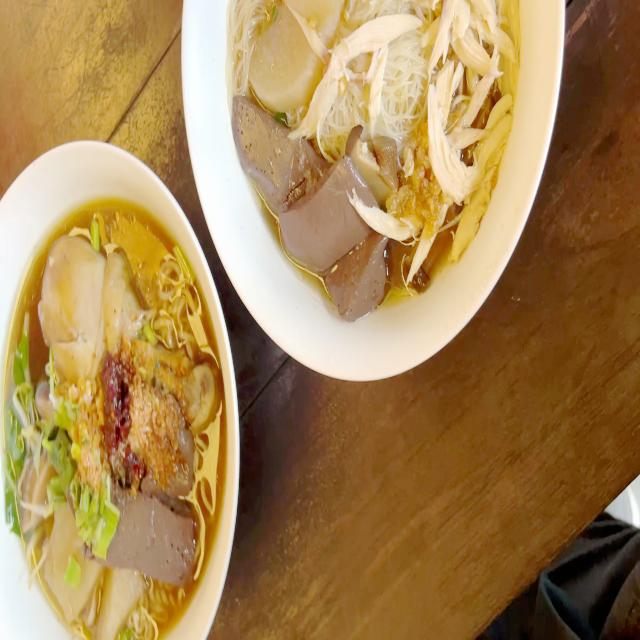boiled_chicken_blood_jelly: (232, 102, 326, 224), (284, 165, 360, 261), (124, 496, 194, 576), (330, 240, 387, 318)
chicken_drumstick: (41, 236, 218, 433)
chicken_shredded: (436, 0, 514, 252), (300, 0, 427, 134), (424, 85, 476, 202), (356, 201, 426, 238)
daikon_radish: (250, 0, 340, 109), (49, 510, 104, 615), (101, 565, 146, 640)
noodle: (222, 0, 530, 315), (0, 212, 213, 640)
